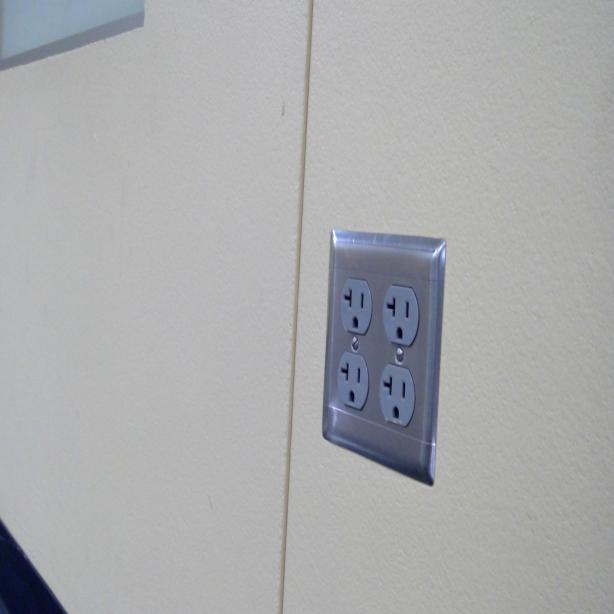typeb: (384, 284, 421, 346), (379, 367, 413, 428), (340, 274, 374, 334), (339, 354, 370, 406)
